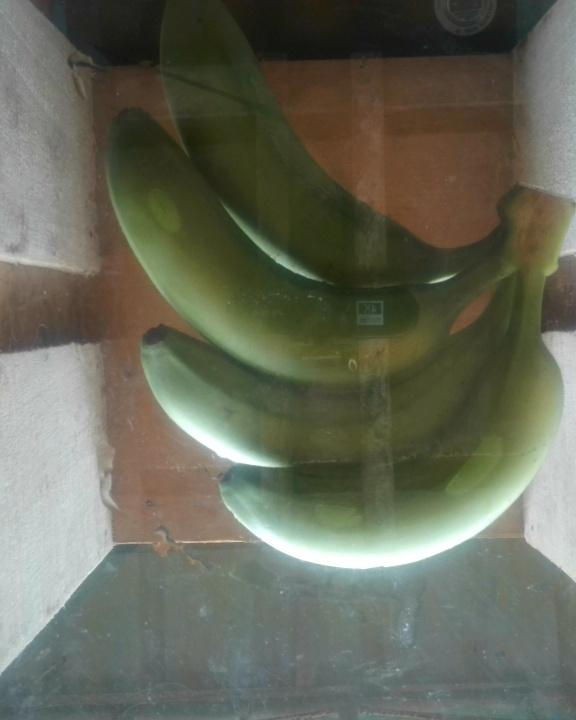SPOT: (95, 4, 576, 580)
